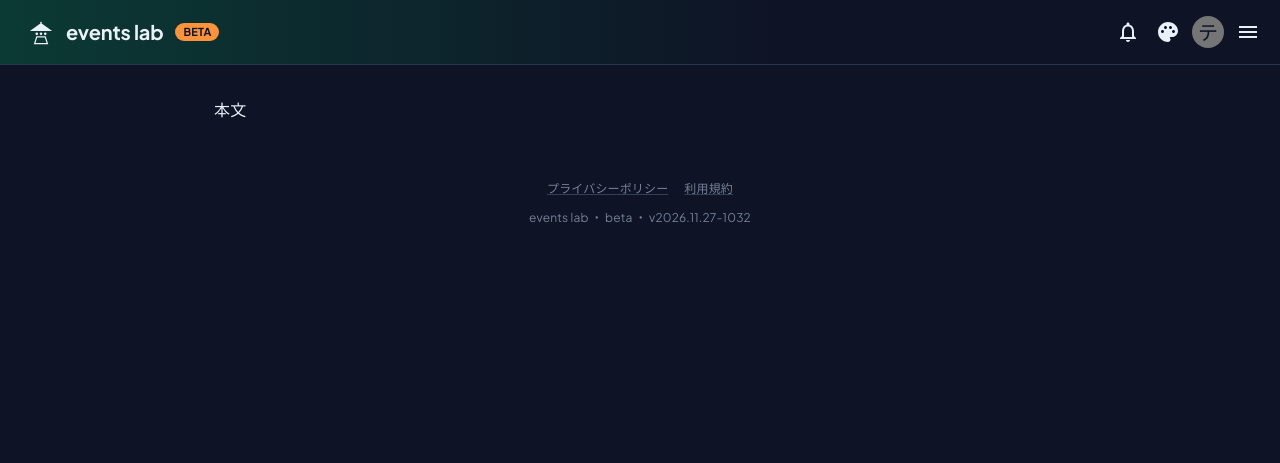
Test: ヘッダーのメニュー (#316) › 畳んだメニューには設定とログアウトもある
Click the button named "メニュー".
click(1248, 32)  # box [1228,12,1268,52]
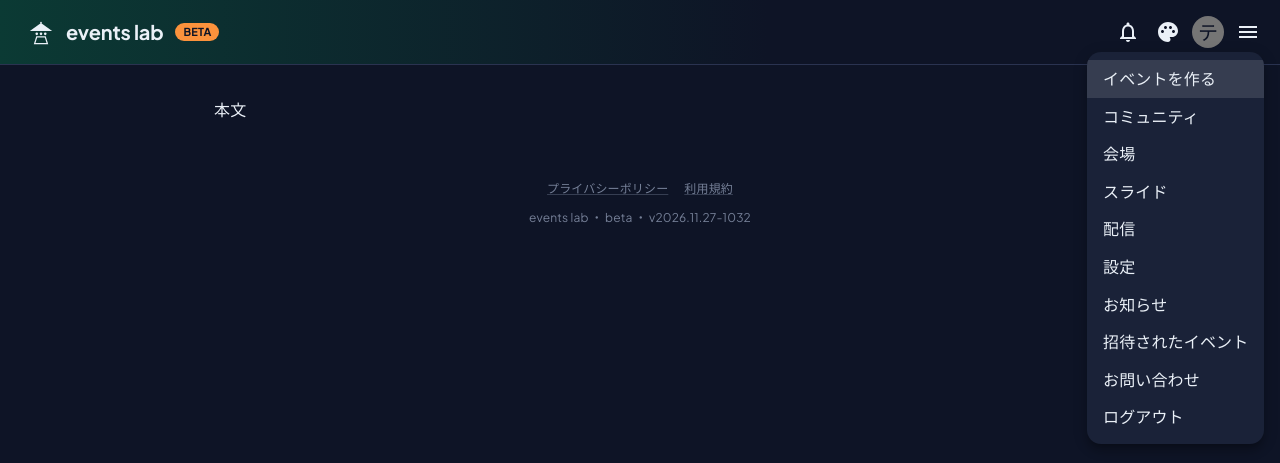
expect the menu item "ログアウト" is shown: met, box [1103,406,1184,427]
